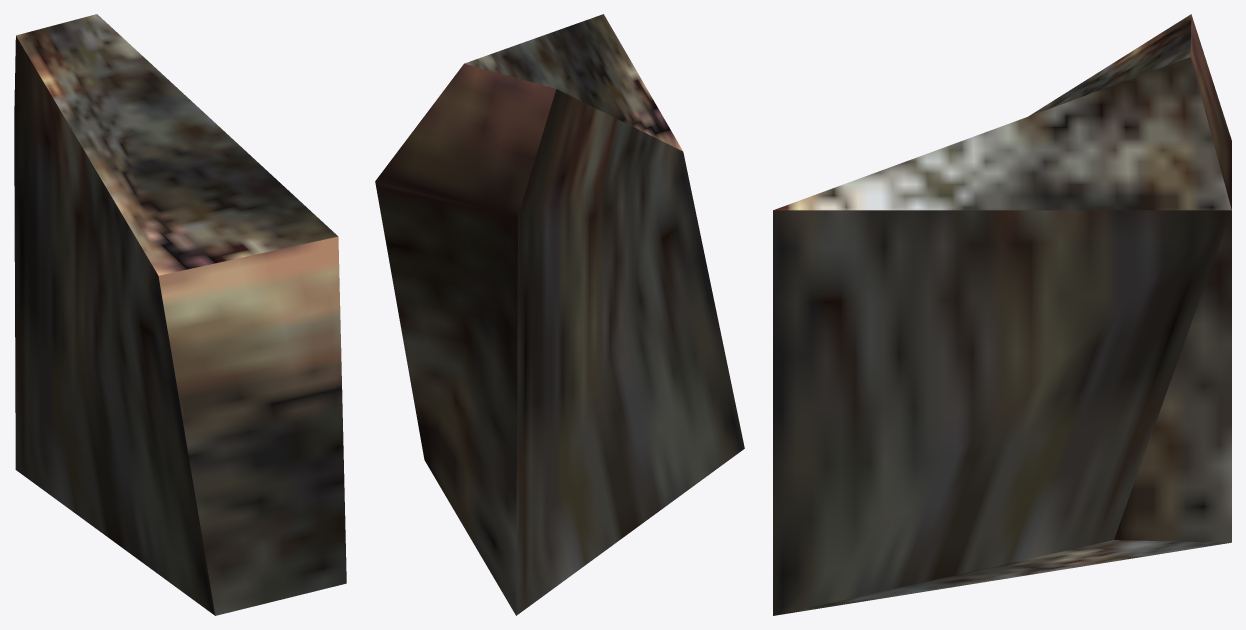
The model's file is USA - Base Infrastructure - Power Plant - Damage State 03 - ABPWRPLANT_d03.glb.
3 renders of one model, left to right at view 1: azimuth 30°, elevation 25°; view 2: azimuth 150°, elevation 25°; view 3: azimuth 270°, elevation 25°, orthographic. The views are drawn at different scales.
Parts seen in each view (by area): view 1: ABPWRPLANT_D03; view 2: ABPWRPLANT_D03; view 3: ABPWRPLANT_D03.
Boxes of the visible parts, left/top/right/bottom form: ABPWRPLANT_D03: left=14, top=14, right=346, bottom=615; ABPWRPLANT_D03: left=375, top=14, right=744, bottom=615; ABPWRPLANT_D03: left=773, top=14, right=1231, bottom=615.
Size of the model in its own units: 3.94 by 11.46 by 9.14.
1 material, 1 textured.
